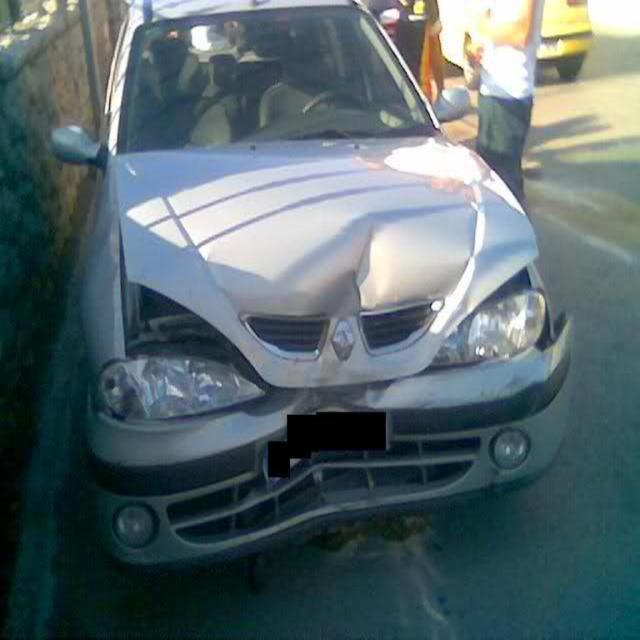Damage: (260, 229, 585, 492)
